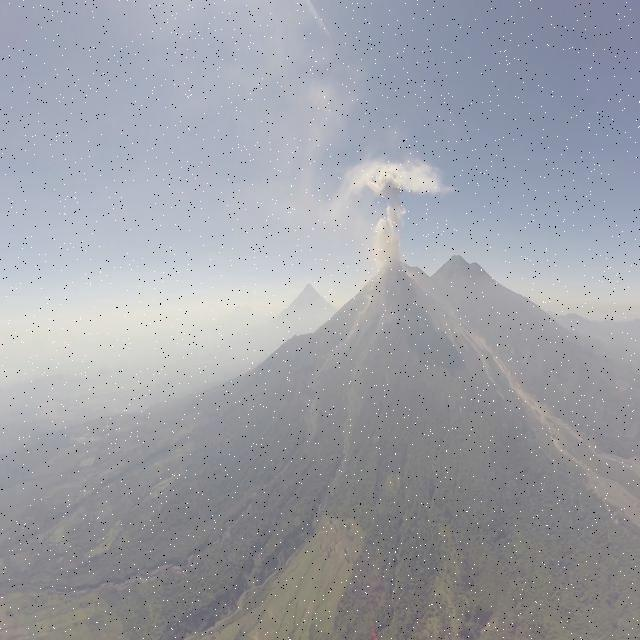Plume: (352, 166, 442, 200), (369, 198, 407, 272)
Summit: (370, 258, 412, 282)
